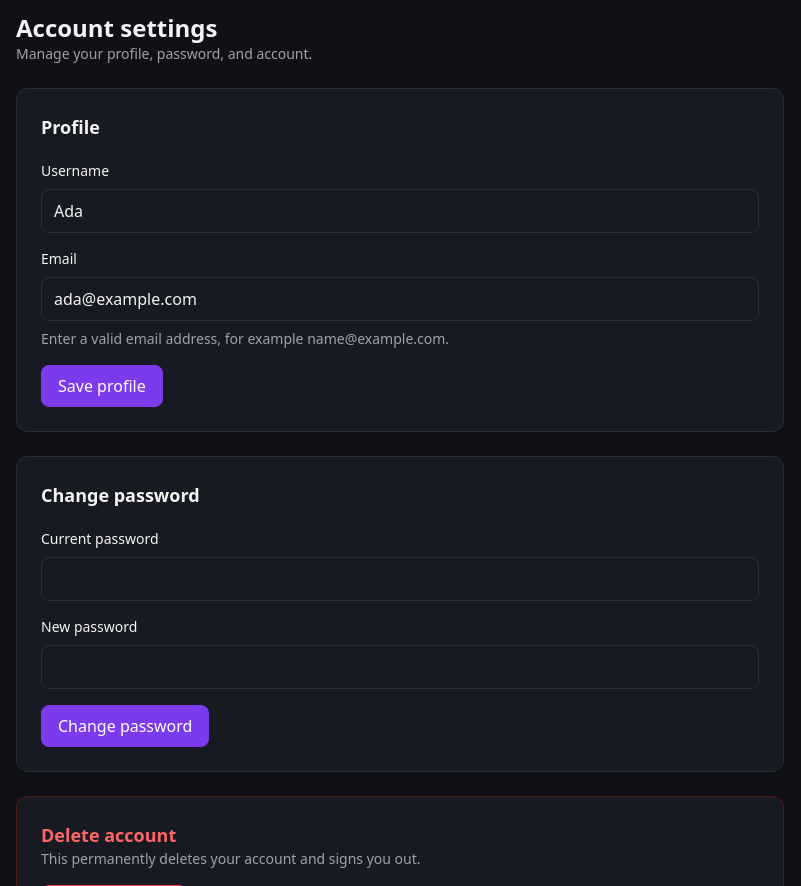
Test: Phase 10 account settings › validates password inputs and accepts a successful password response
Expected: the field showing "Ada" is shown, x1=41 y1=189 x2=759 y2=233
Type "same-password" into the password field labelled "Current password" at (400, 579), box x1=41 y1=557 x2=759 y2=601
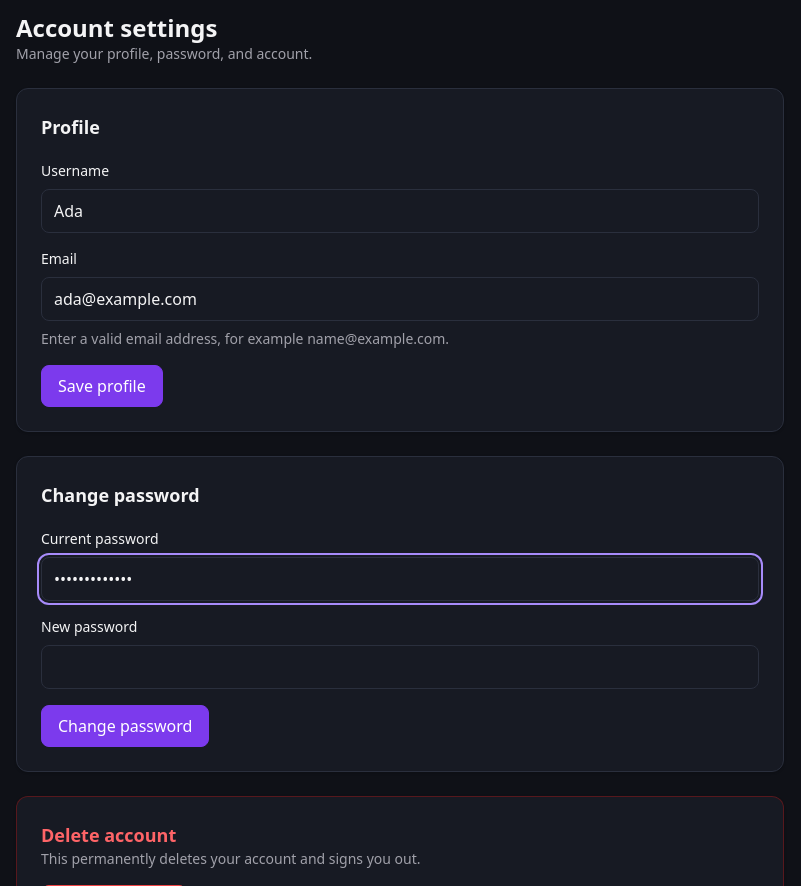
Type "same-password" into the password field labelled "New password" at (400, 667), box x1=41 y1=645 x2=759 y2=689
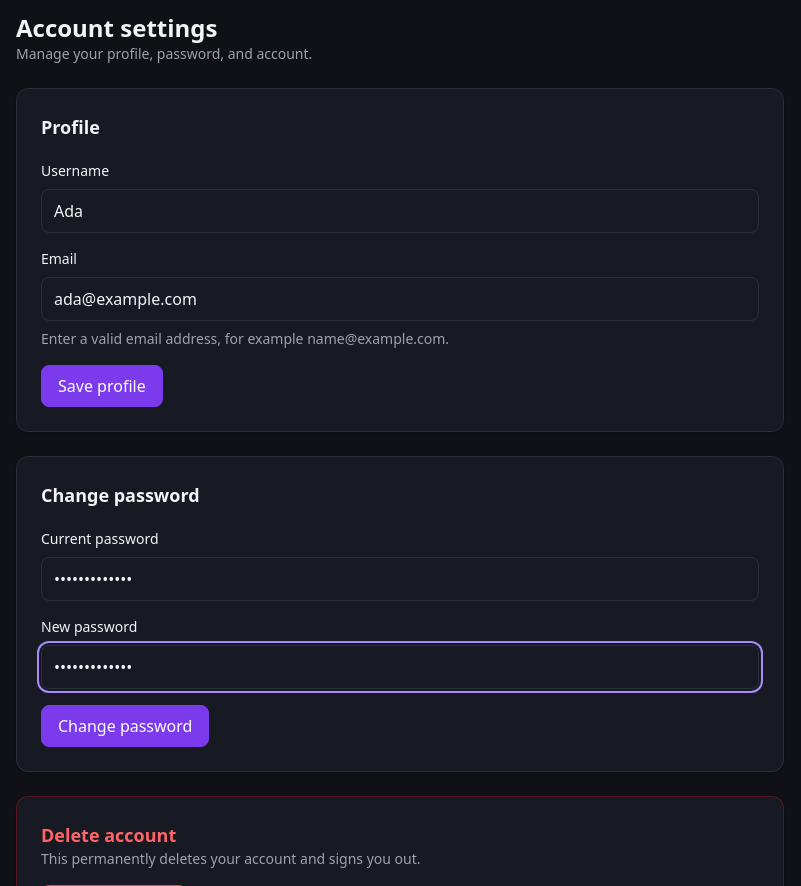
Click the button "Change password" at (125, 726), box x1=41 y1=705 x2=209 y2=747
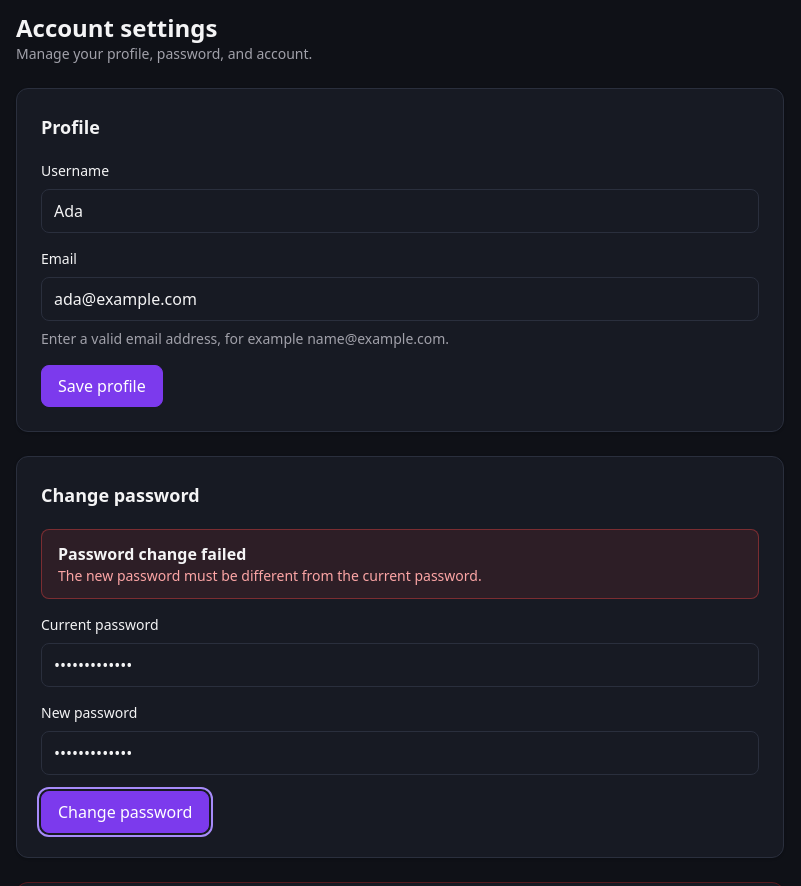
Now the text "The new password must be different from the current password." is shown, box x1=58 y1=566 x2=482 y2=585
Type "new-password" into the password field labelled "New password" at (400, 753), box x1=41 y1=731 x2=759 y2=775
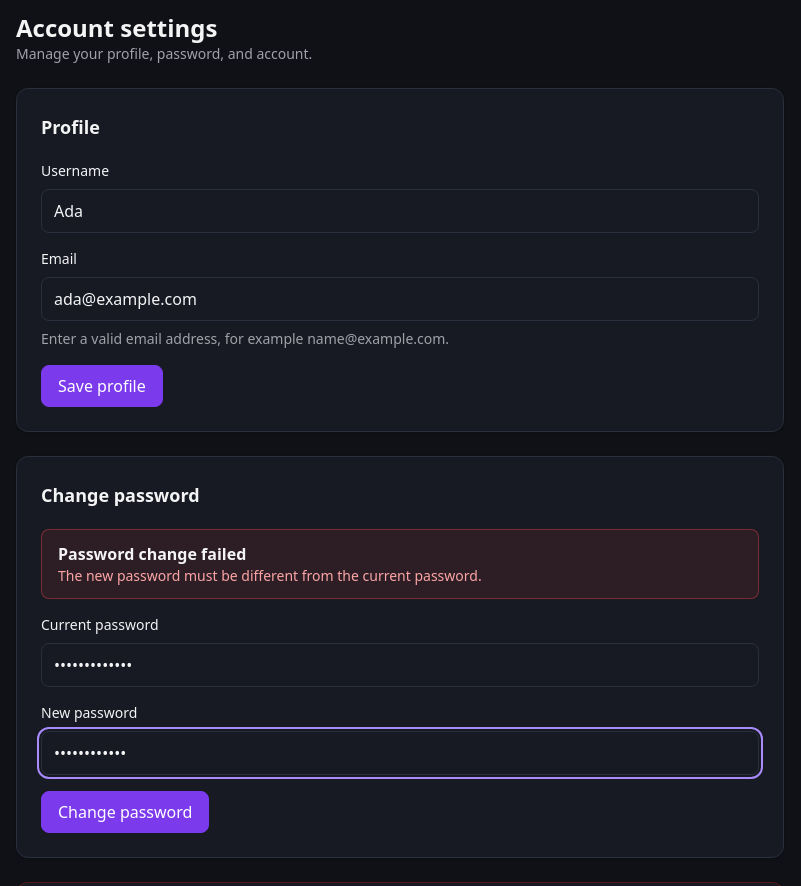
Click the button "Change password" at (125, 812), box x1=41 y1=791 x2=209 y2=833
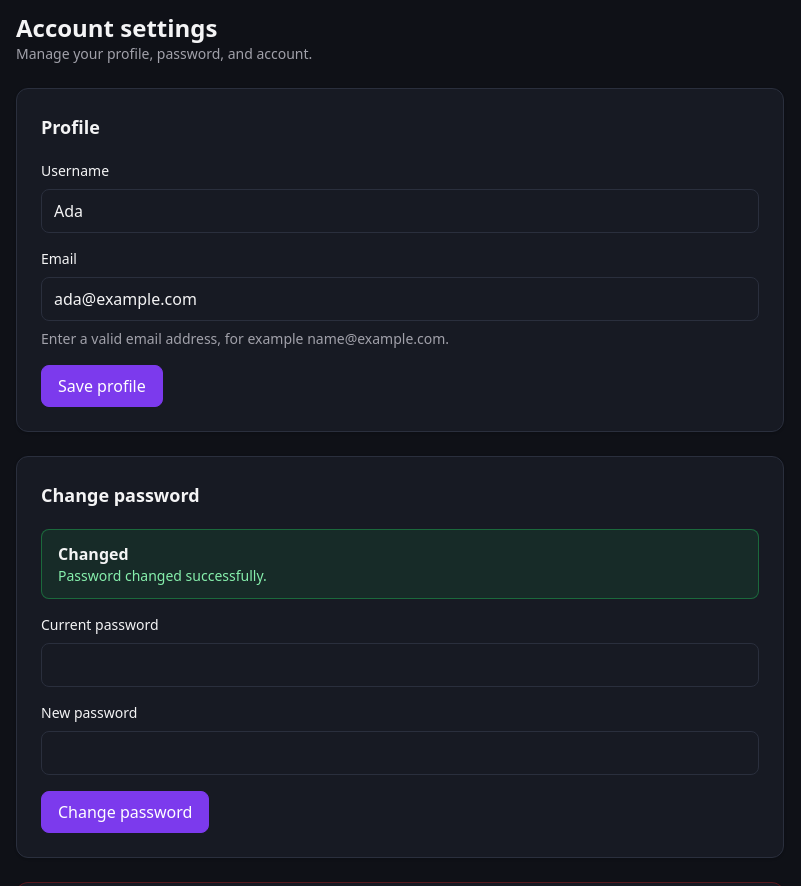
Now the text "Password changed successfully." is shown, box x1=58 y1=566 x2=267 y2=585
Now the password field labelled "Current password" is empty, box x1=41 y1=643 x2=759 y2=687
